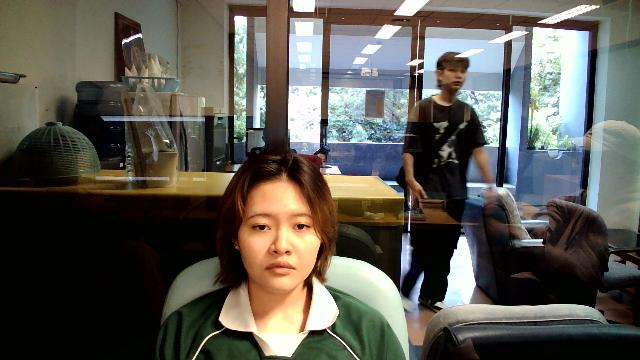fokus: (237, 184, 325, 294)
